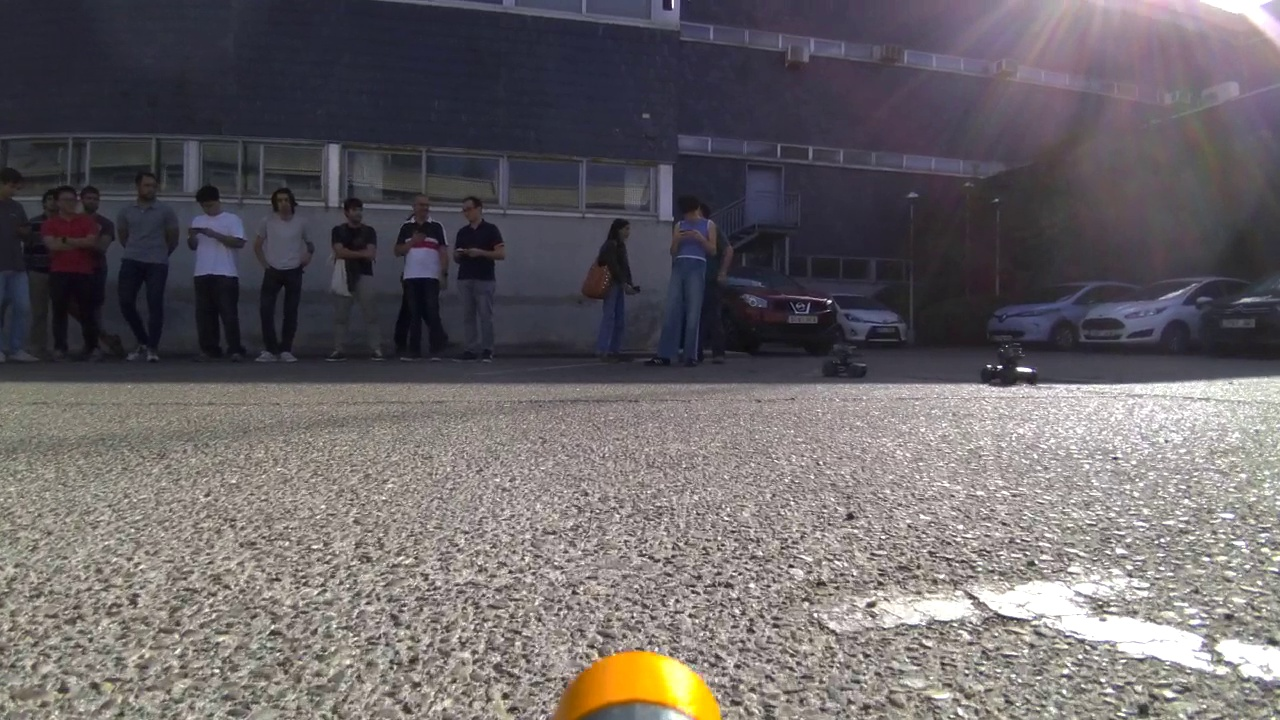robot: (977, 331, 1049, 396), (811, 330, 878, 390)
